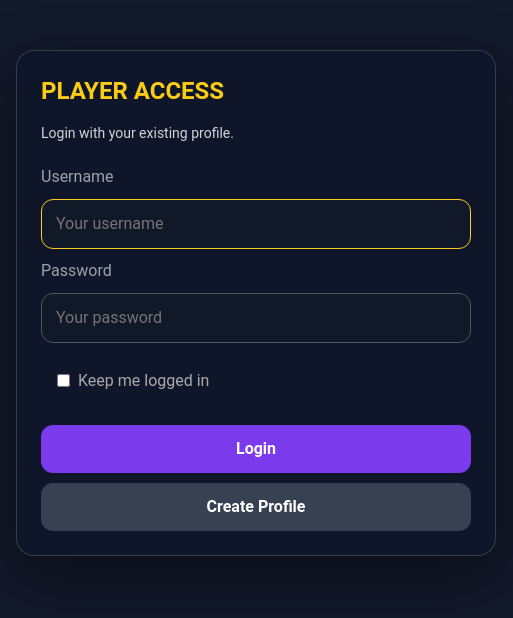
Test: LoginOverlay › shows suggestion to create profile when username does not exist
This screenshot has width=513, height=618.
Type "UnknownPilot" into the field labelled "Username" at (256, 224), box [41,199,471,249]
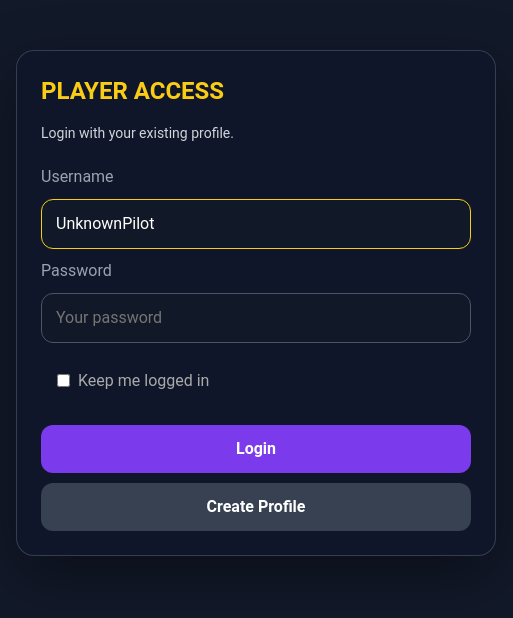
Type "Abc12345" into the password field labelled "Password" at (256, 318), box [41,293,471,343]
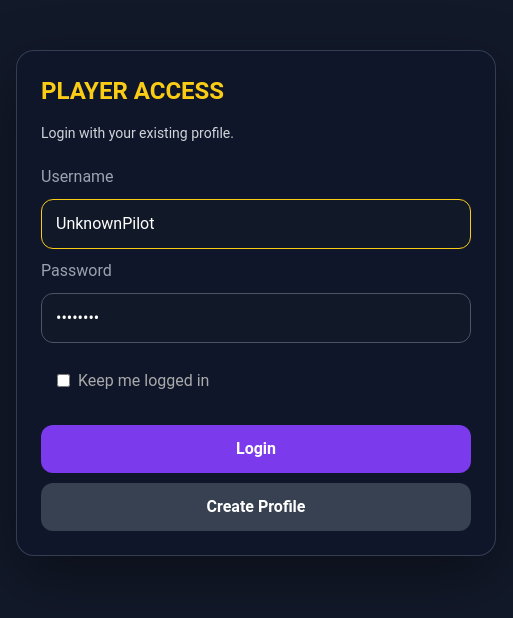
Click the button "Login" at (256, 449), box [41,425,471,473]
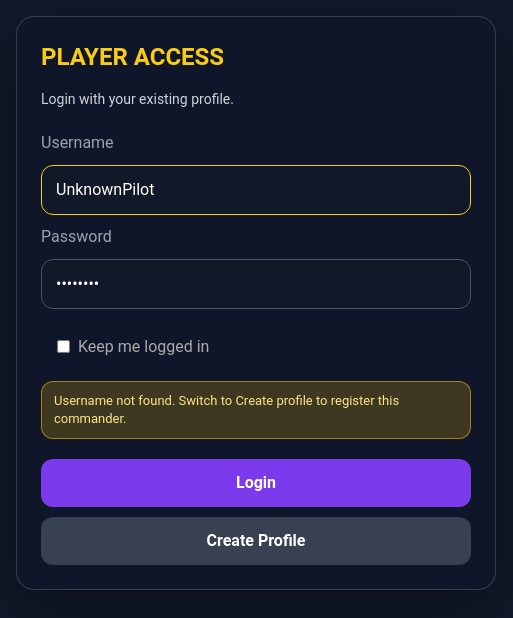
Expected: the message shows "Username not found", [54,393,399,426]
Expected: the message shows "Create profile", [54,393,399,426]
